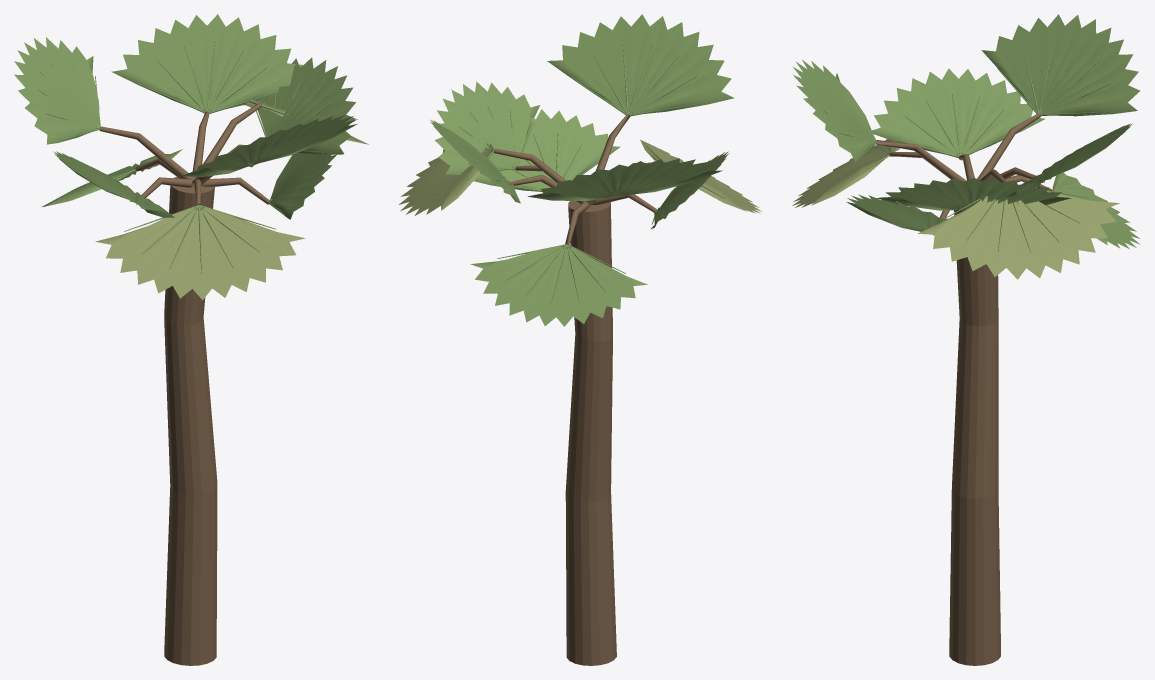
The model's file is 027_fan_leaf_tree.glb.
The picture shows the model from 3 angles, left to right: view 1: azimuth 30°, elevation 25°; view 2: azimuth 150°, elevation 25°; view 3: azimuth 270°, elevation 25°; orthographic projection. The views are drawn at different scales.
Visible parts, largest first — view 1: TRE-027_crown_fan, Fan_palm_trunk, TRE-027_petioles, TRE-027_ribs; view 2: TRE-027_crown_fan, Fan_palm_trunk, TRE-027_ribs, TRE-027_petioles; view 3: TRE-027_crown_fan, Fan_palm_trunk, TRE-027_ribs, TRE-027_petioles.
Part boxes in pixels (x1,y1,x2,y2): TRE-027_crown_fan: (14,14,368,299); Fan_palm_trunk: (164,176,217,665); TRE-027_petioles: (99,103,269,205); TRE-027_ribs: (38,42,330,273); TRE-027_crown_fan: (399,14,761,326); Fan_palm_trunk: (565,201,616,665); TRE-027_ribs: (436,44,724,303); TRE-027_petioles: (493,114,665,244); TRE-027_crown_fan: (792,14,1140,279); Fan_palm_trunk: (949,210,1000,665); TRE-027_ribs: (816,42,1110,252); TRE-027_petioles: (876,113,1054,218).
Size of the model in its own units: 2.76 by 4.94 by 2.66.
